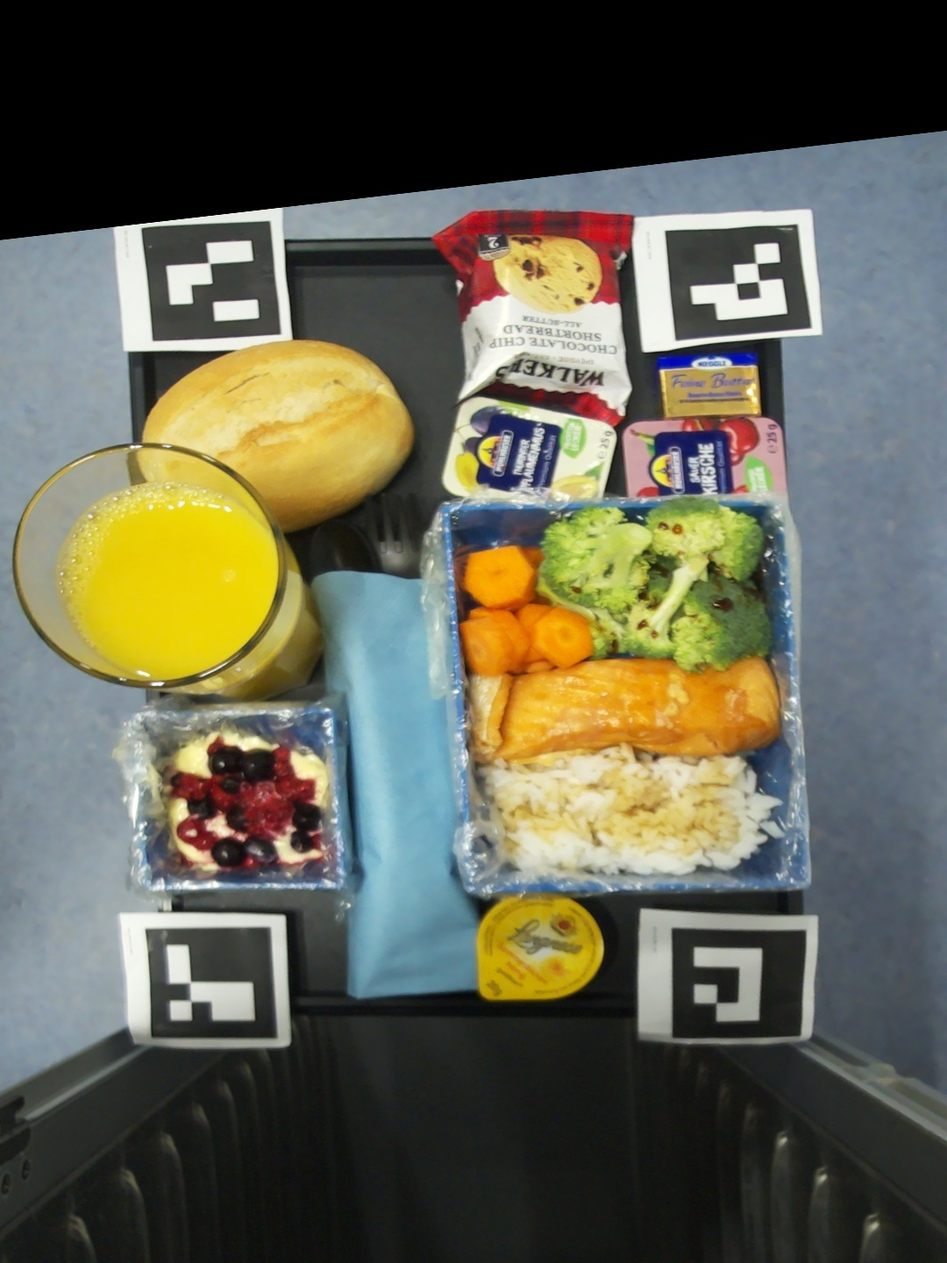bread_roll: (143, 338, 416, 532)
broccoli: (540, 497, 774, 672)
butter: (654, 351, 761, 418)
carrots: (458, 545, 593, 676)
cherry_jam: (622, 416, 787, 497)
cookie: (431, 210, 634, 425)
fish_salmon: (468, 657, 781, 763)
honey: (478, 895, 603, 1000)
orange_juice_bottle: (13, 444, 325, 702)
plum_jam: (441, 396, 616, 499)
rice: (476, 745, 785, 876)
vanilla_pudding_with_fruits: (161, 726, 329, 872)
